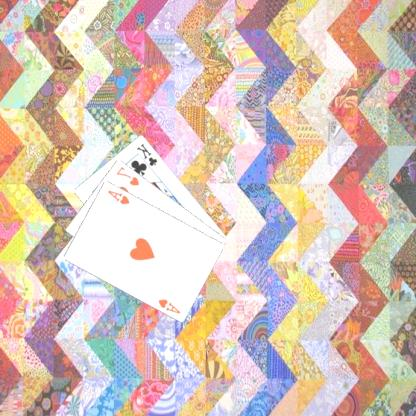7H: (115, 163, 142, 187)
AH: (158, 296, 184, 315), (106, 187, 132, 205)
KC: (136, 140, 160, 172)
